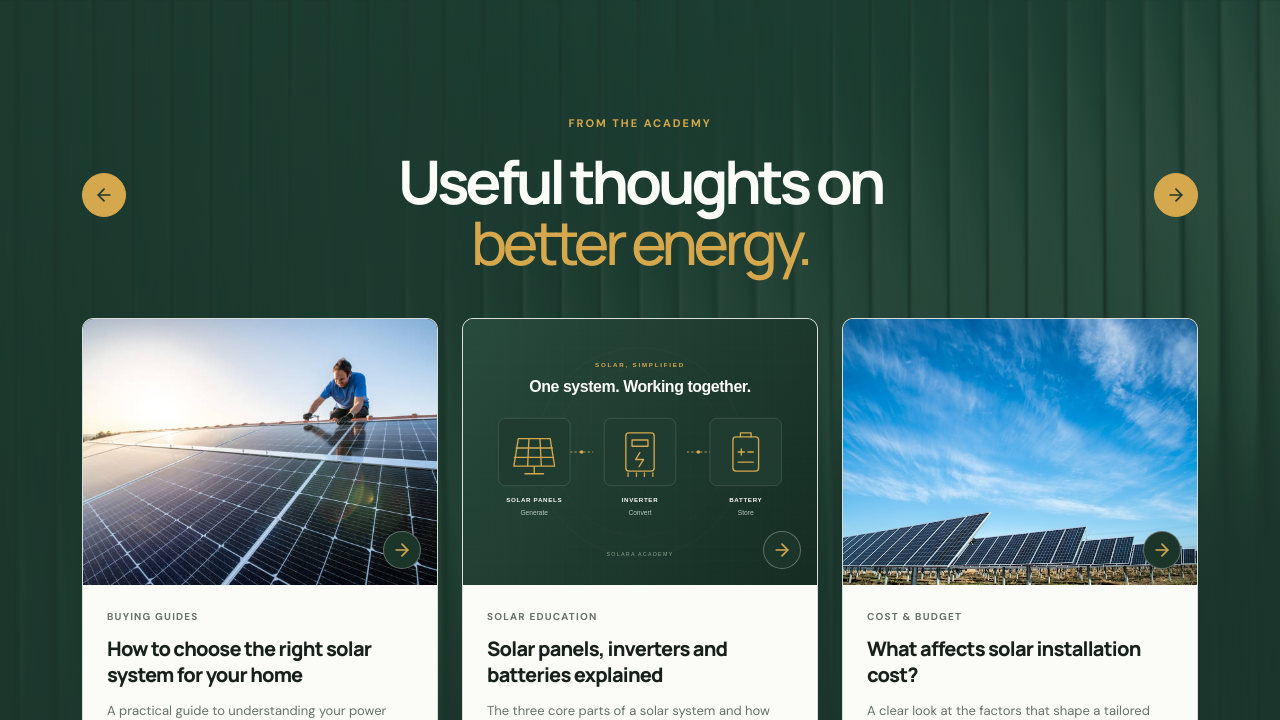
it: academy carousel › cycles both directions, wraps around, and allows direct selection
Expected: the heading "How to choose the right solar system for your home" is shown, [107,636,413,688]
Click the button named "Next academy articles" at (1176, 195), box [1154,173,1198,217]
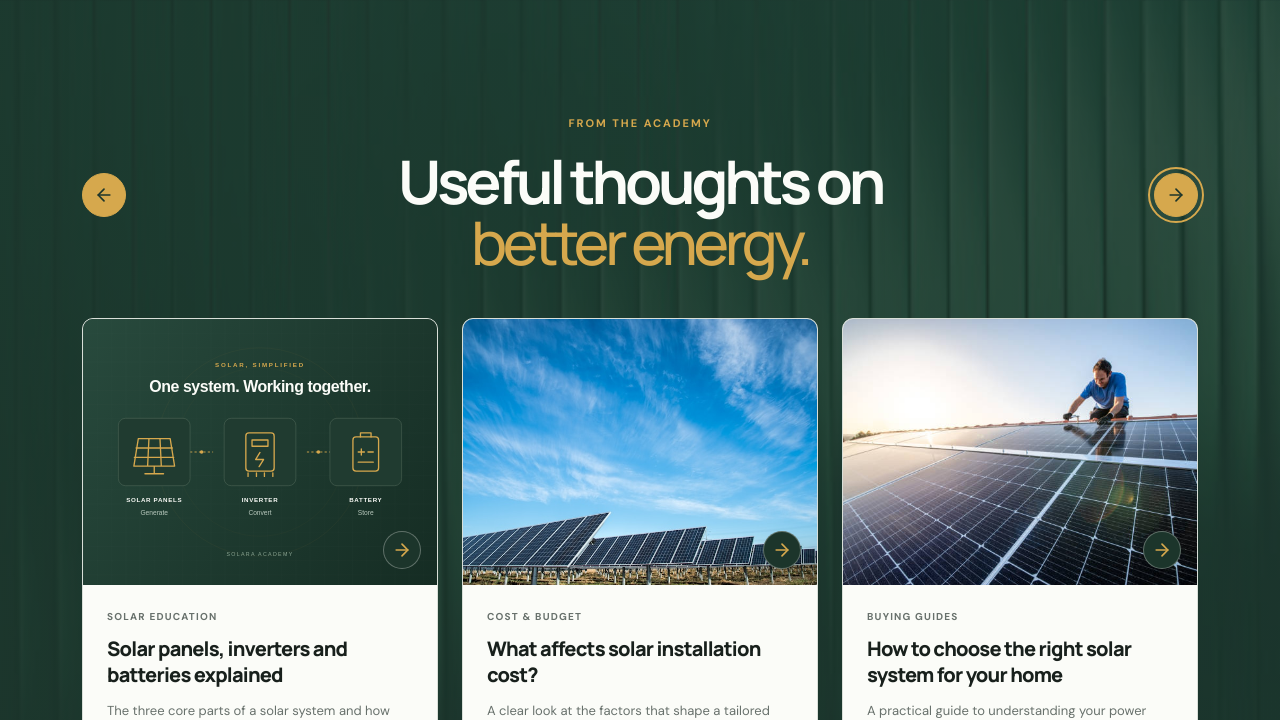
Expected: the heading "Solar panels, inverters and batteries explained" is shown, [107,635,347,688]
Click the button named "Previous academy articles" at (104, 195), box [82,173,126,217]
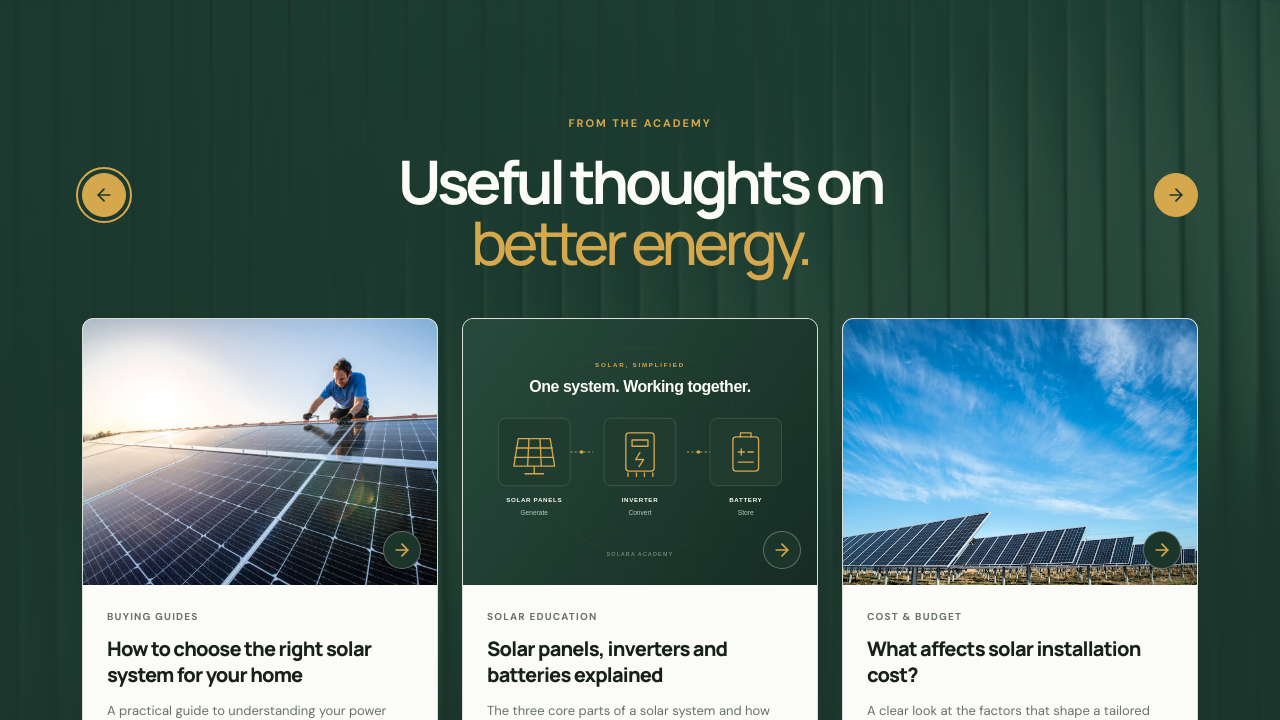
Expected: the heading "How to choose the right solar system for your home" is shown, [107,636,413,688]
Click the button named "Previous academy articles" at (104, 195), box [82,173,126,217]
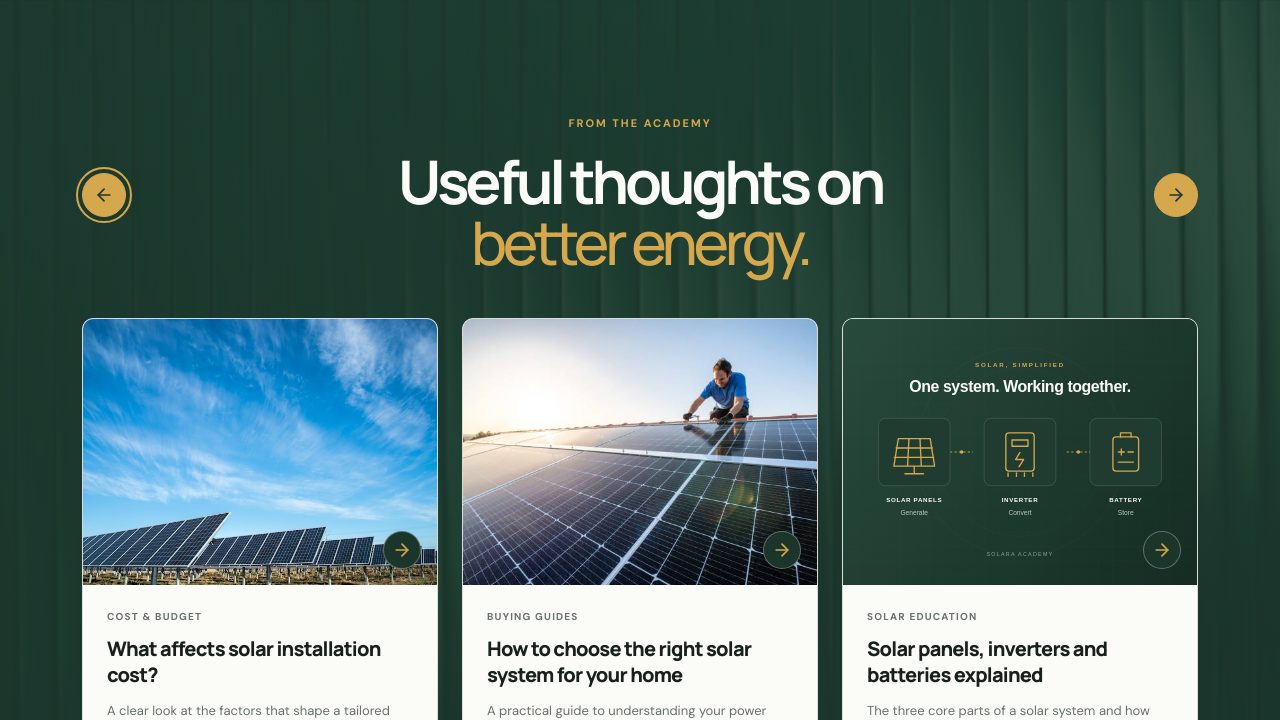
Expected: the heading "What affects solar installation cost?" is shown, [107,636,413,688]
Click the button named "Next academy articles" at (1176, 195), box [1154,173,1198,217]
(page scrolled)
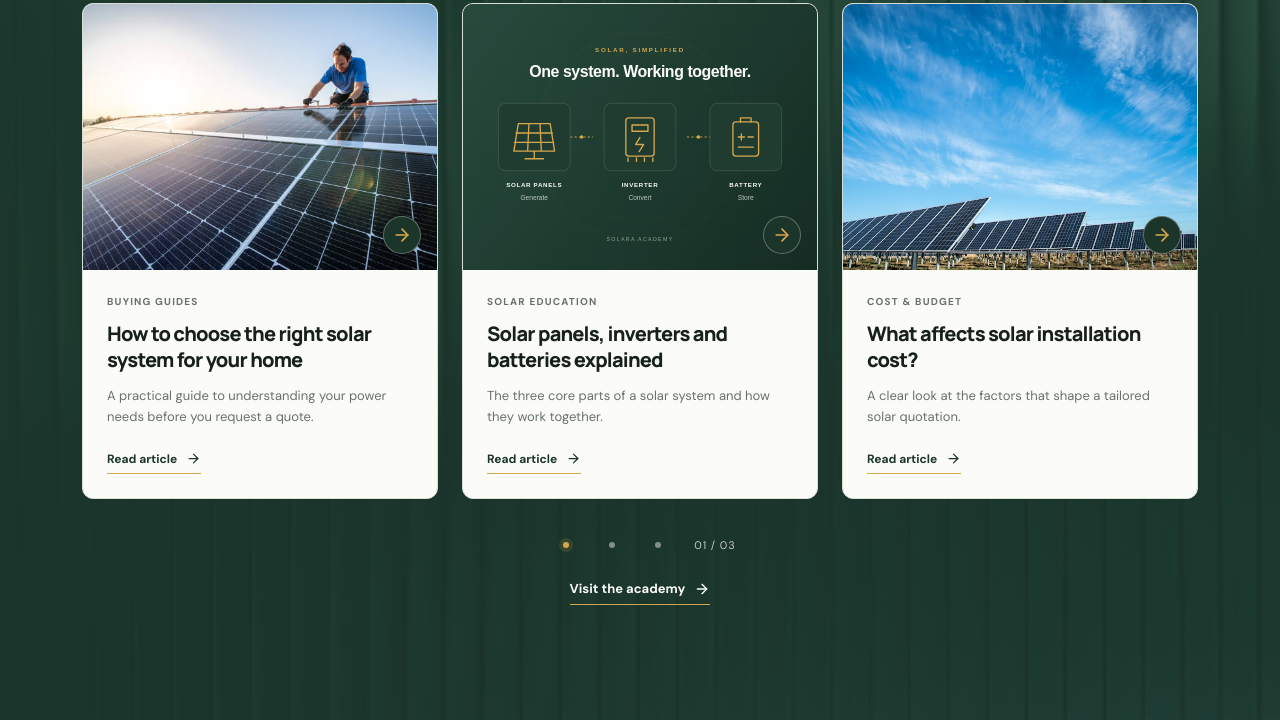
Expected: the heading "How to choose the right solar system for your home" is shown, [107,321,413,373]
Click the button named "Start with: What affects solar installation cost?" at (658, 545), box [636,523,680,567]
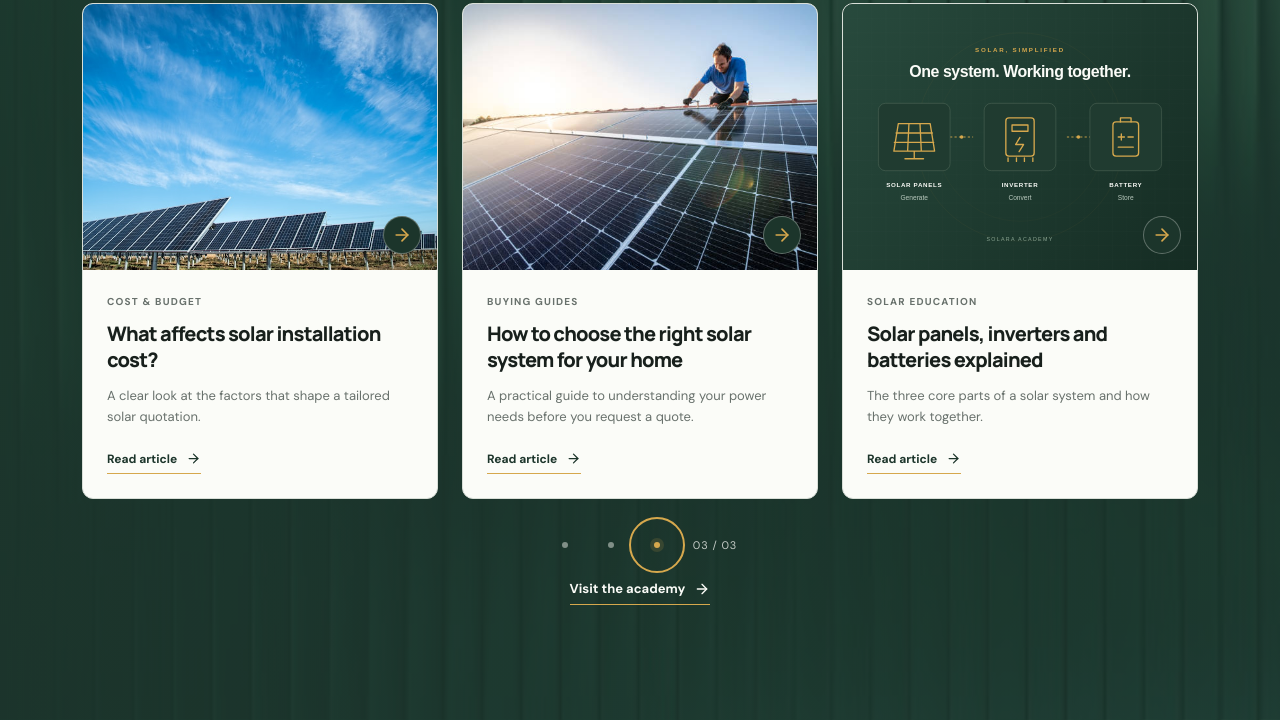
Expected: the heading "What affects solar installation cost?" is shown, [107,321,413,373]
